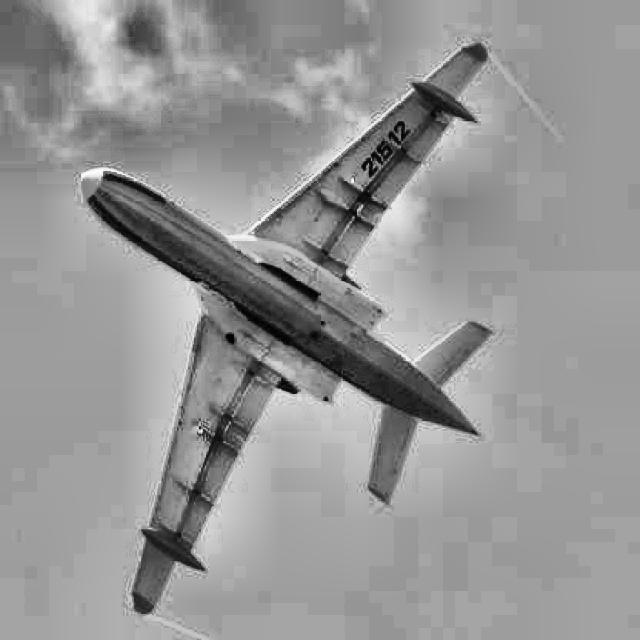Be200: (79, 41, 495, 614)
